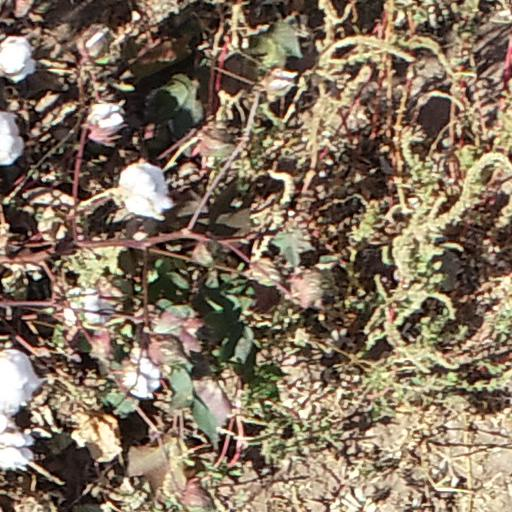Boll: (118, 161, 176, 215), (1, 349, 39, 408), (2, 424, 33, 472), (126, 358, 163, 398), (66, 292, 107, 328), (1, 39, 33, 79), (1, 111, 24, 166), (90, 102, 125, 133)
